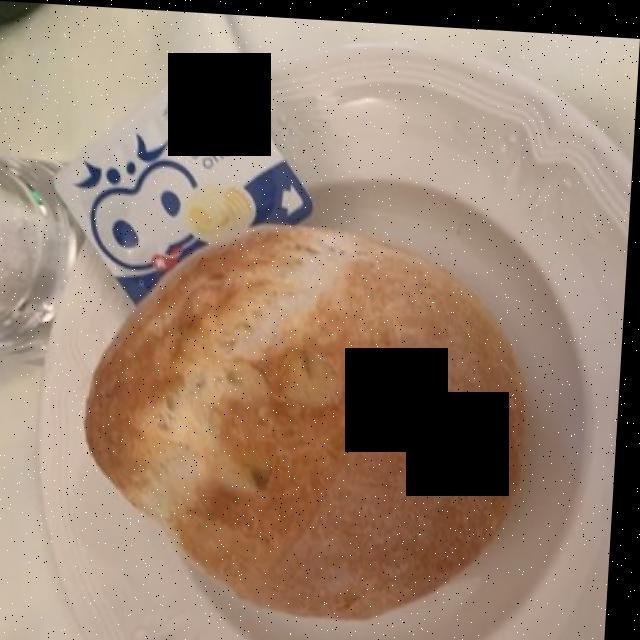bread: (99, 224, 524, 614)
